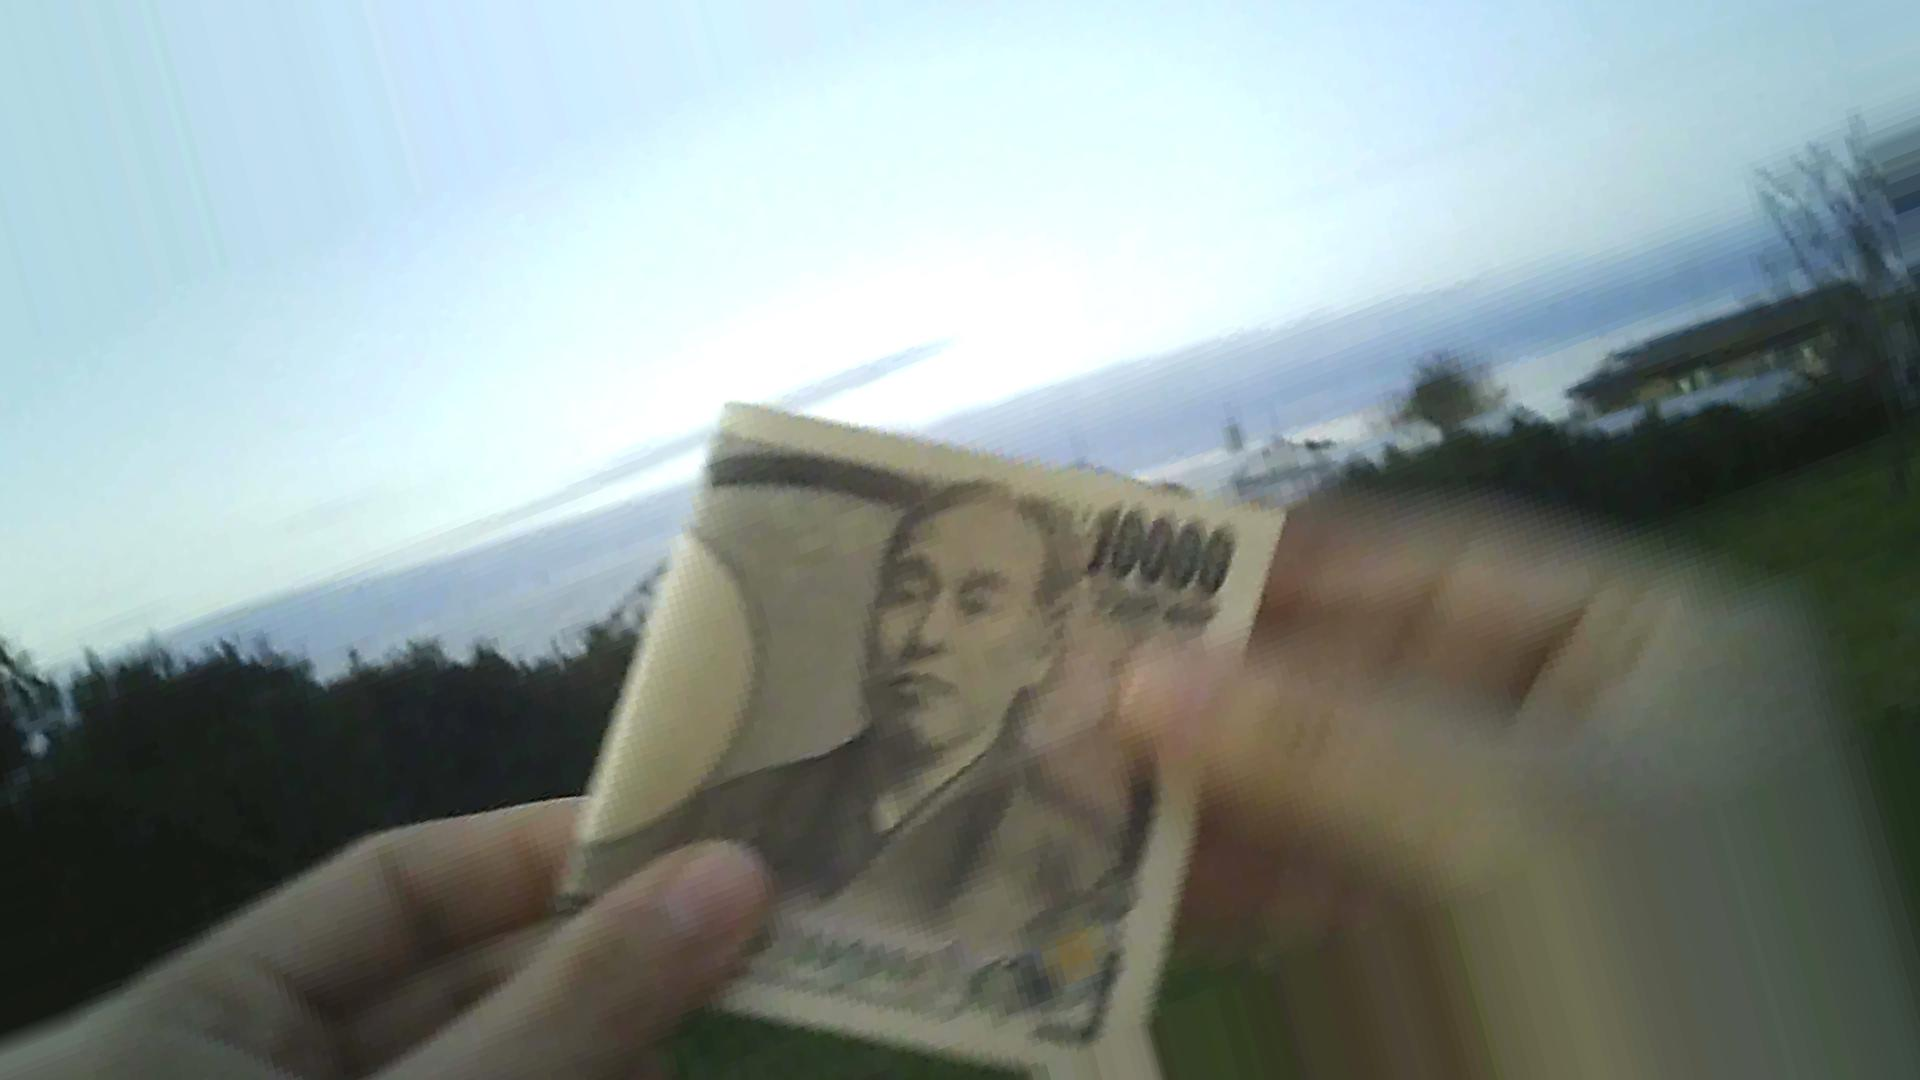10,000 Yen: (509, 411, 1271, 1033)
